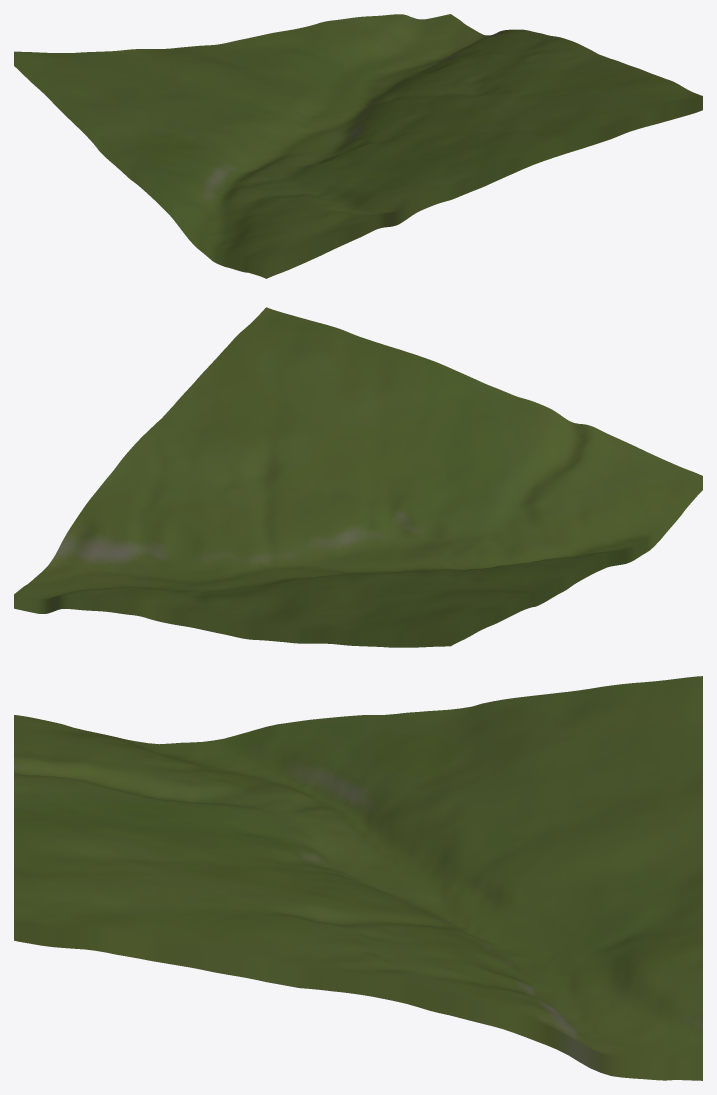
The model's file is terrain_6_-7.glb.
The picture shows the model from 3 angles, top to bottom: view 1: azimuth 30°, elevation 25°; view 2: azimuth 150°, elevation 25°; view 3: azimuth 270°, elevation 25°; orthographic projection. The views are drawn at different scales.
Visible parts, largest first — view 1: terrain_6_-7; view 2: terrain_6_-7; view 3: terrain_6_-7.
Part boxes in pixels (x1,y1,x2,y2): terrain_6_-7: (14,14,702,278); terrain_6_-7: (14,307,702,647); terrain_6_-7: (14,676,702,1080).
Size of the model in its own units: 256 by 65.48 by 256.
